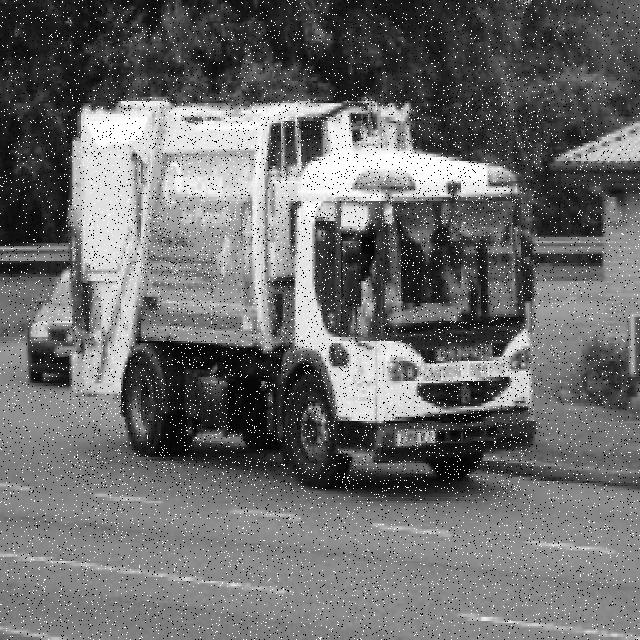Garbage Truck: (67, 95, 539, 491)
